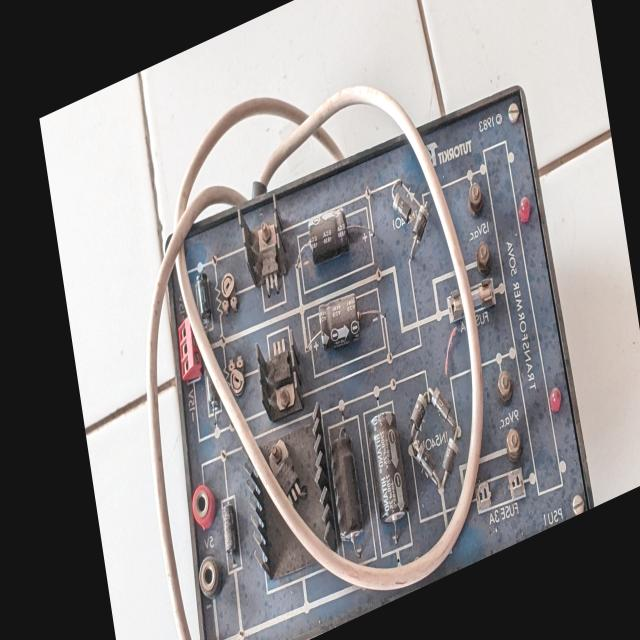Tutor Kit of Electronics: (129, 42, 596, 640)
